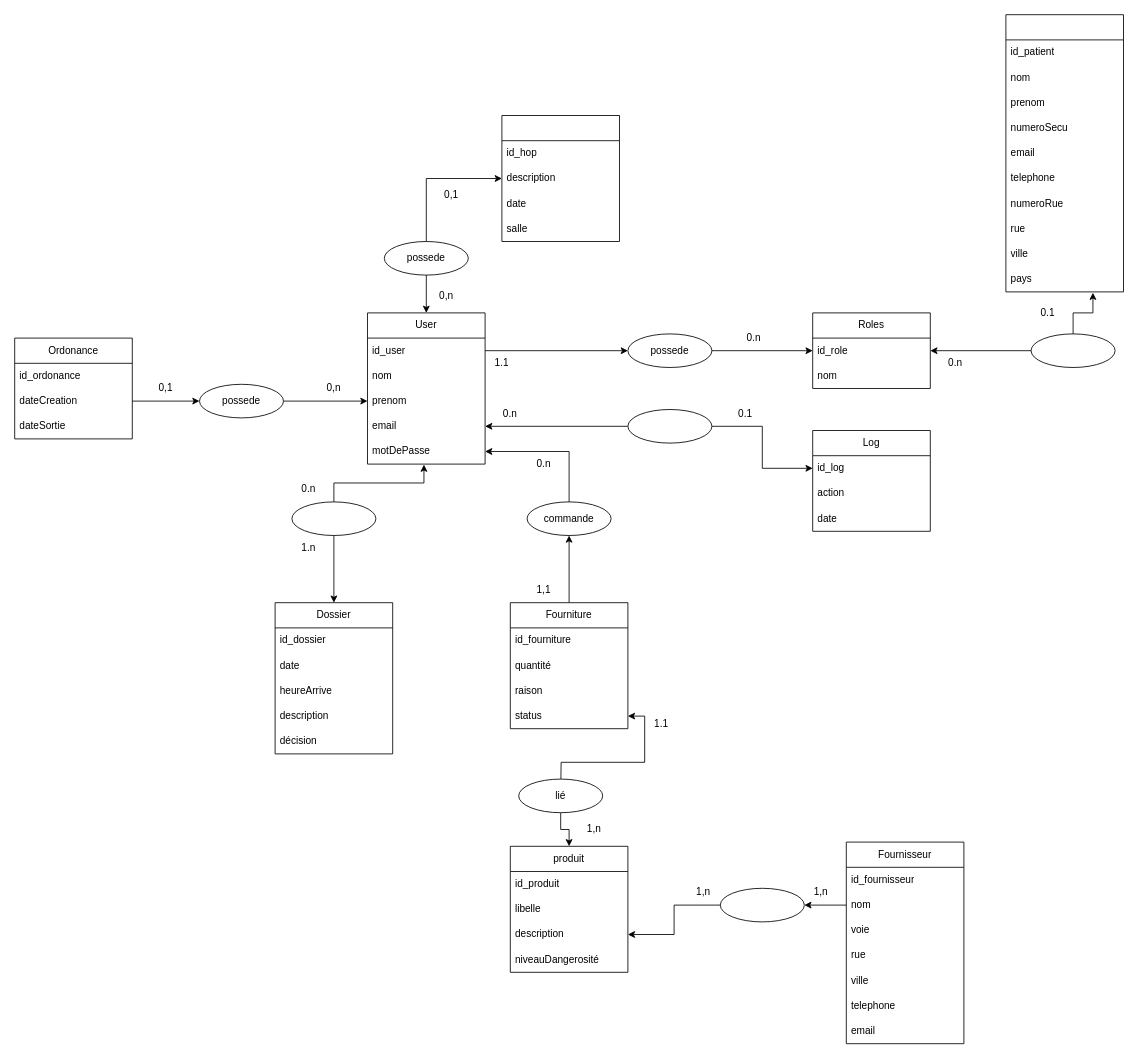
Image size: 1138x1058. Some labels were removed from this diagram. Each missing label, with the box of its shape:
est lier: (291, 501, 376, 536)
est lié: (719, 887, 804, 922)
est marqué: (627, 409, 712, 443)
fiche_patient: (1005, 14, 1124, 292)
hospitalisation: (501, 115, 620, 242)
Secrétaire peut créer: (1030, 333, 1115, 368)
